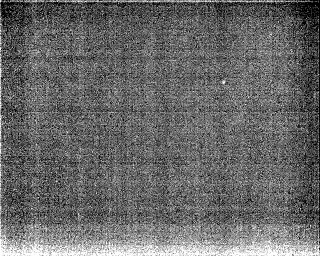BIRD: (220, 77, 228, 86)
